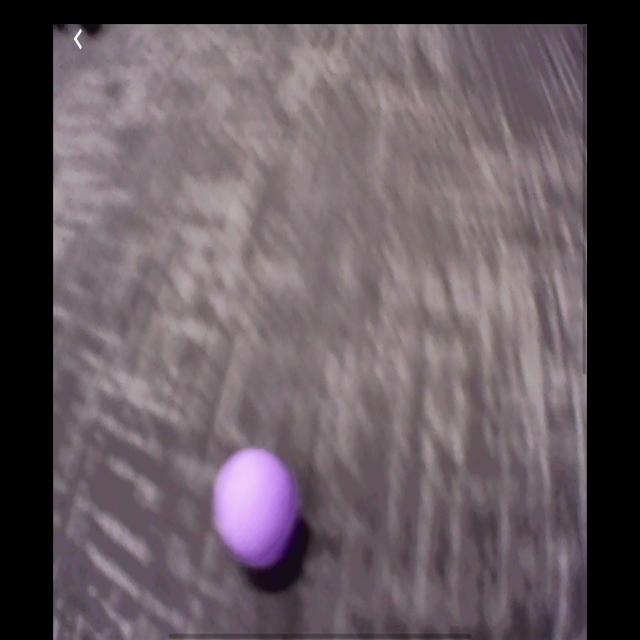ball: (216, 453, 300, 568)
